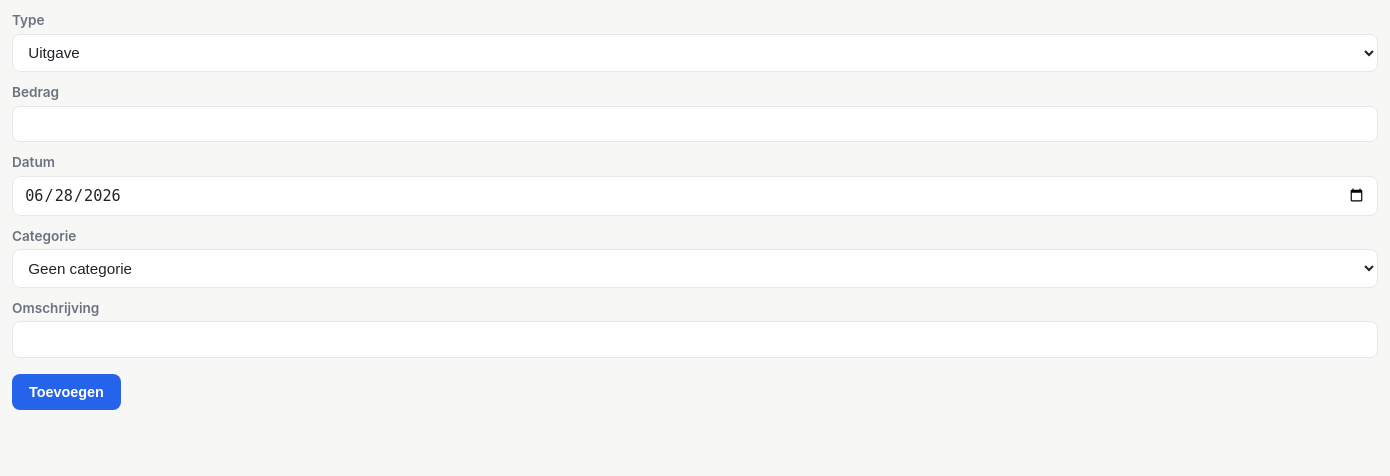
Scenario: TransactionForm › shows an error message when submitting fails
This screenshot has width=1390, height=476.
Step 1. Click the button "Toevoegen" → (66,392), box [12, 374, 121, 410]
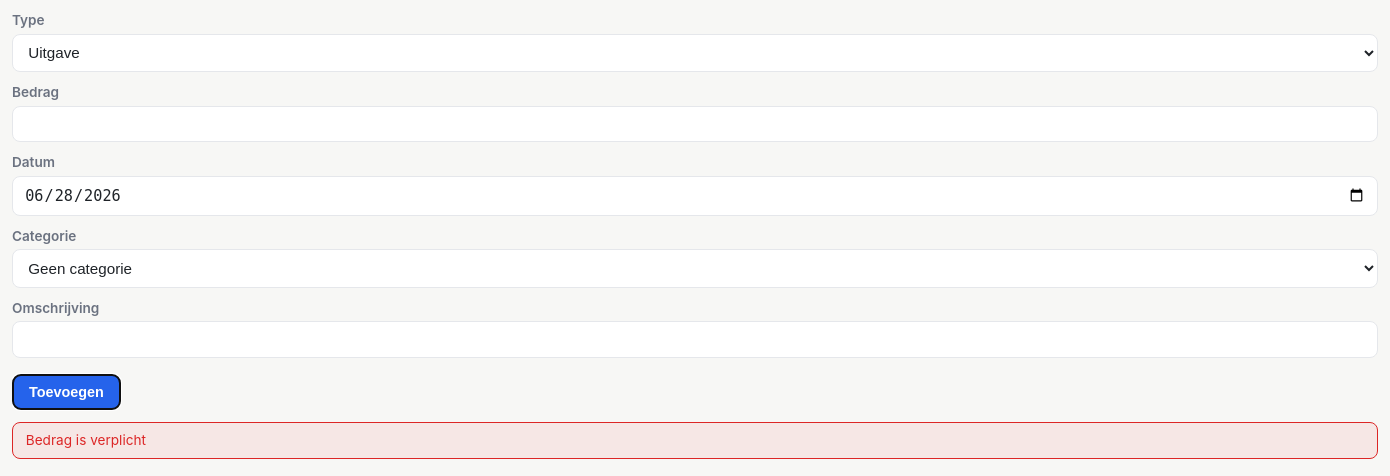
Now the message reads "Bedrag is verplicht", box [26, 432, 146, 448]
